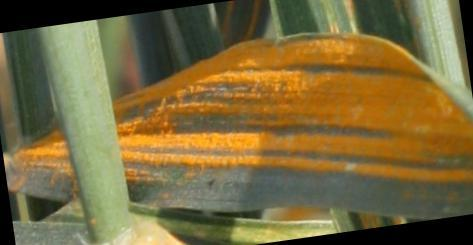Wheat: (243, 54, 407, 182), (187, 69, 240, 168), (139, 88, 186, 176), (19, 135, 72, 173)
